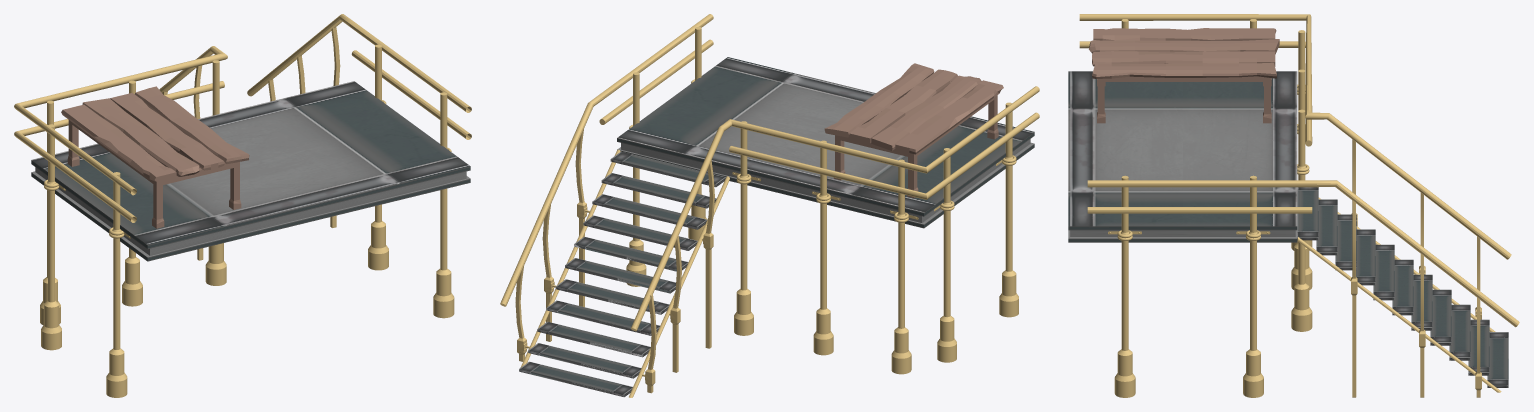
File: Warehouse Stairs.fbx
3 views of the same model, side by side, from view 1: azimuth 30°, elevation 25°; view 2: azimuth 150°, elevation 25°; view 3: azimuth 270°, elevation 25° (orthographic). The views are drawn at different scales.
Visible parts, largest first — view 1: Cube.007, Railing, Table, Table Legs; view 2: Railing, Cube.007, Stairs.003, Table, Table Legs; view 3: Cube.007, Railing, Stairs.003, Table, Table Legs.
Boxes of the visible parts, bbox=[...] form: Cube.007: bbox=[31, 81, 470, 261]; Railing: bbox=[14, 14, 471, 397]; Table: bbox=[61, 86, 249, 181]; Table Legs: bbox=[67, 120, 241, 228]; Railing: bbox=[500, 14, 1039, 397]; Cube.007: bbox=[617, 57, 1034, 228]; Stairs.003: bbox=[519, 151, 725, 397]; Table: bbox=[824, 63, 1003, 154]; Table Legs: bbox=[833, 95, 998, 198]; Cube.007: bbox=[1068, 71, 1297, 242]; Railing: bbox=[1079, 14, 1519, 397]; Stairs.003: bbox=[1297, 187, 1508, 387]; Table: bbox=[1089, 28, 1279, 78]; Table Legs: bbox=[1097, 76, 1271, 123].
Bounding box in the file's own units: 616 × 378 × 704.
